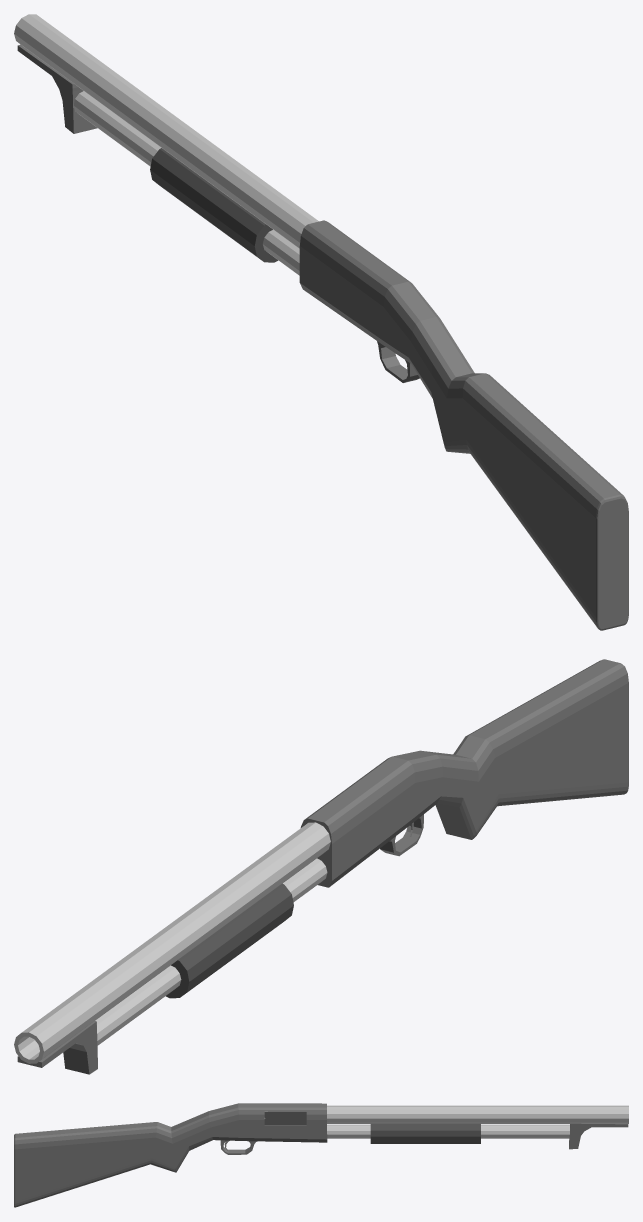
File: Shotgun.fbx
3 views of the same model, one above another, from view 1: azimuth 30°, elevation 25°; view 2: azimuth 150°, elevation 25°; view 3: azimuth 270°, elevation 25° (orthographic). The views are drawn at different scales.
Parts seen in each view (by area): view 1: Shotbun Base, Pump; view 2: Shotbun Base, Pump; view 3: Shotbun Base, Pump, Pump.001.
Boxes of the visible parts, x1,y1,x2,y2 form: Shotbun Base: (14,14,628,630); Pump: (150,148,278,262); Shotbun Base: (14,659,628,1074); Pump: (166,883,293,998); Shotbun Base: (14,1103,628,1207); Pump: (370,1123,480,1143); Pump.001: (264,1112,306,1124).
Size of the model in its own units: 37.18 by 170 by 958.
Materials: 3 (3 with a texture image).
